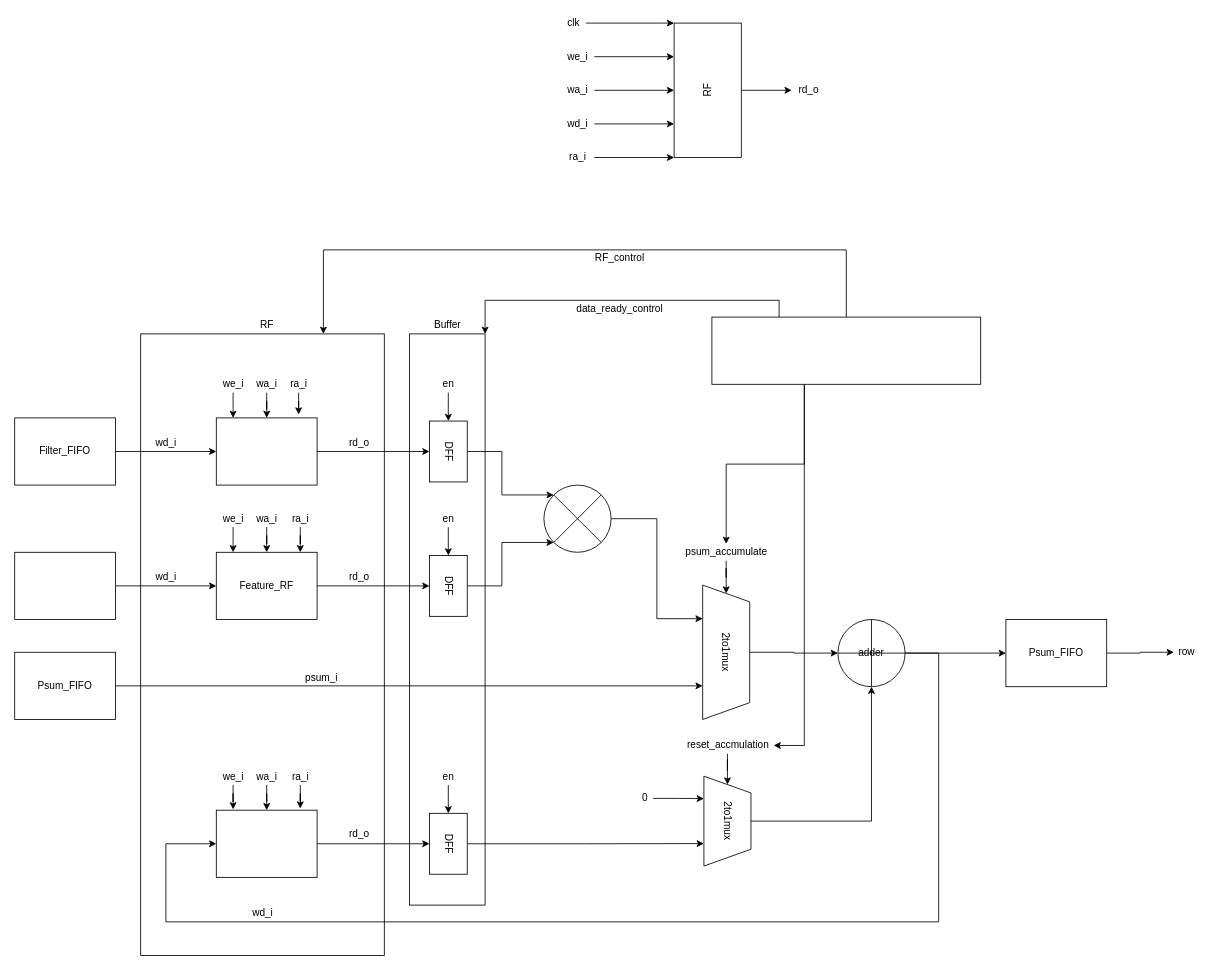
The diagram is 1214 pixels wide and 970 high, and some of its shapes have lost their labels. The box of each missing label's shape, as (x1, y1, x2, y2) in pixels:
Feature_FIFO: (14, 551, 116, 620)
Filter_RF: (215, 417, 317, 485)
multiplier: (543, 484, 611, 552)
PE_Controller: (711, 316, 981, 384)
Psum_RF: (215, 809, 317, 877)
